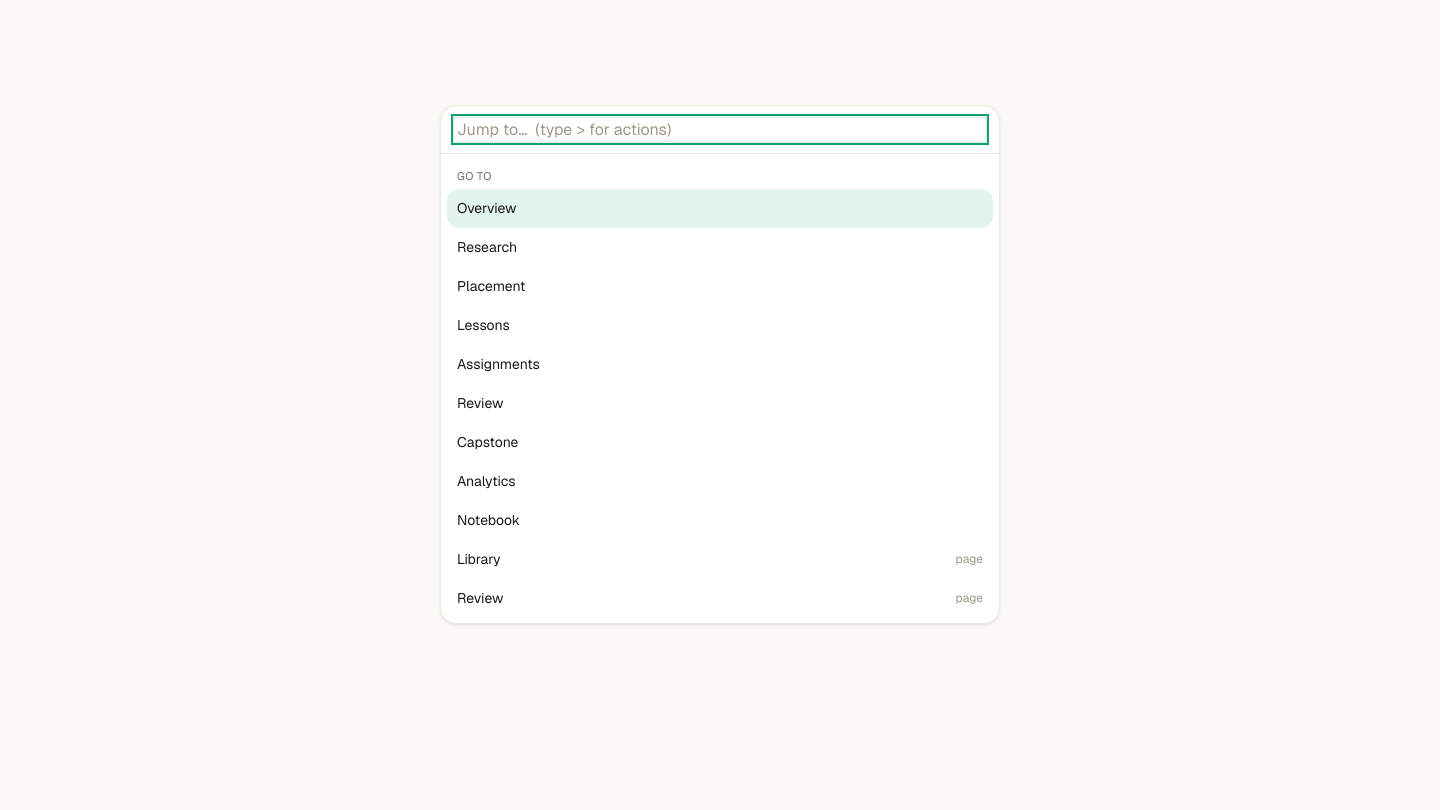
Test: CommandPalette › switches to actions on the > prefix and hides nav targets
This screenshot has width=1440, height=810.
In the dropdown with test id "palette-input": (720, 130) [455, 118, 985, 141], type ">"
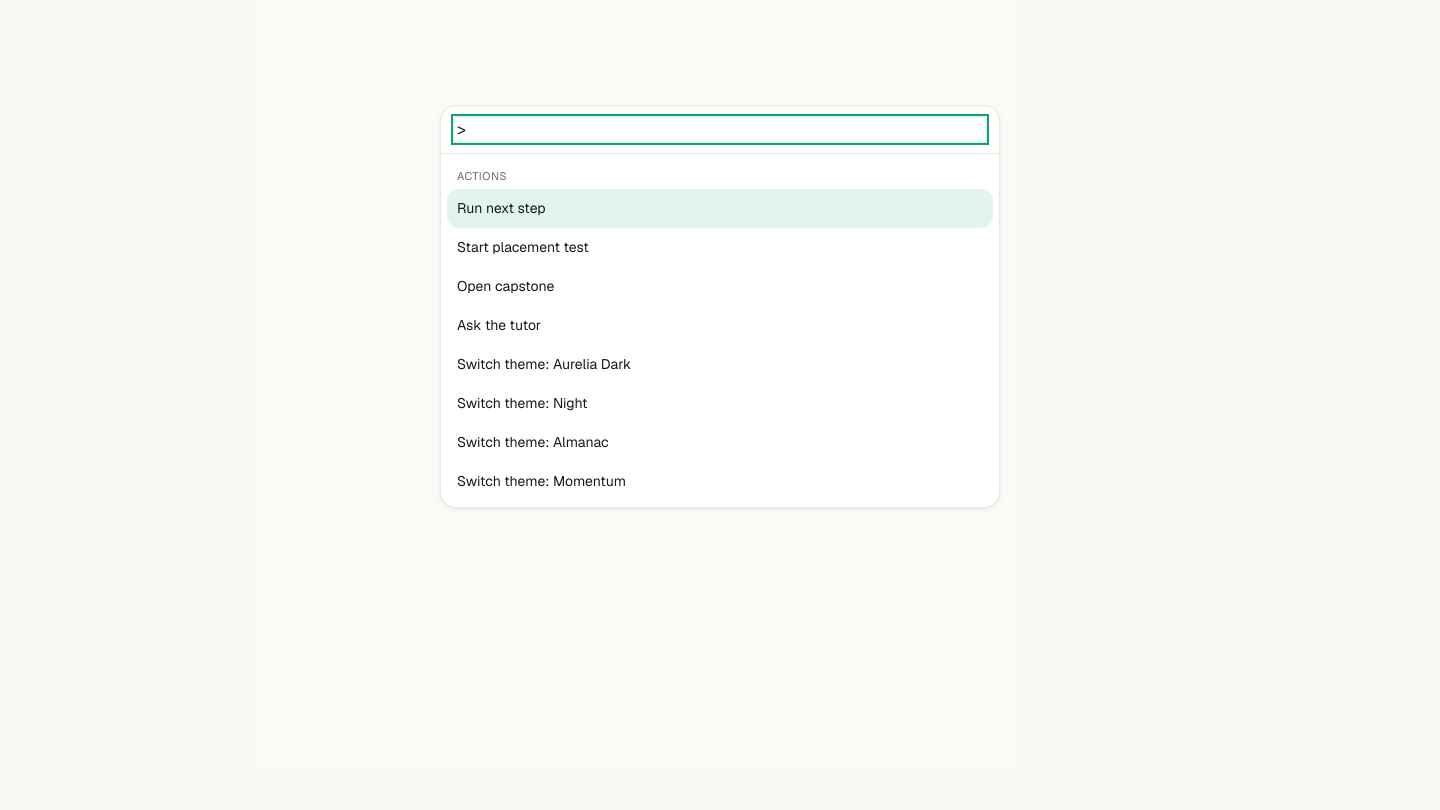
Expected: the option "Run next step" is shown, [447, 189, 993, 228]
Expected: the option "Switch theme: Night" is shown, [457, 394, 588, 412]
Expected: the option "Library" is gone
